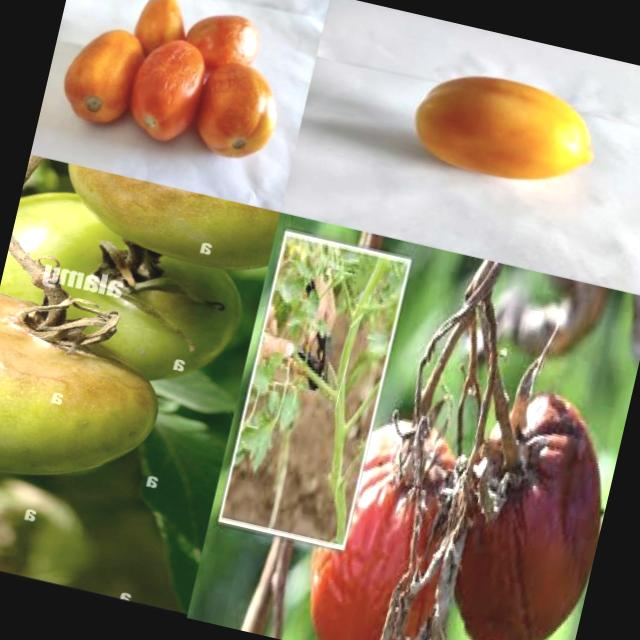Fresh_Tomato: (394, 52, 612, 203)
Rotten_Tomato: (428, 375, 627, 640), (0, 287, 179, 506), (38, 161, 280, 303), (116, 29, 217, 151), (51, 17, 152, 134), (187, 54, 288, 168), (179, 2, 268, 86), (127, 0, 197, 65)
